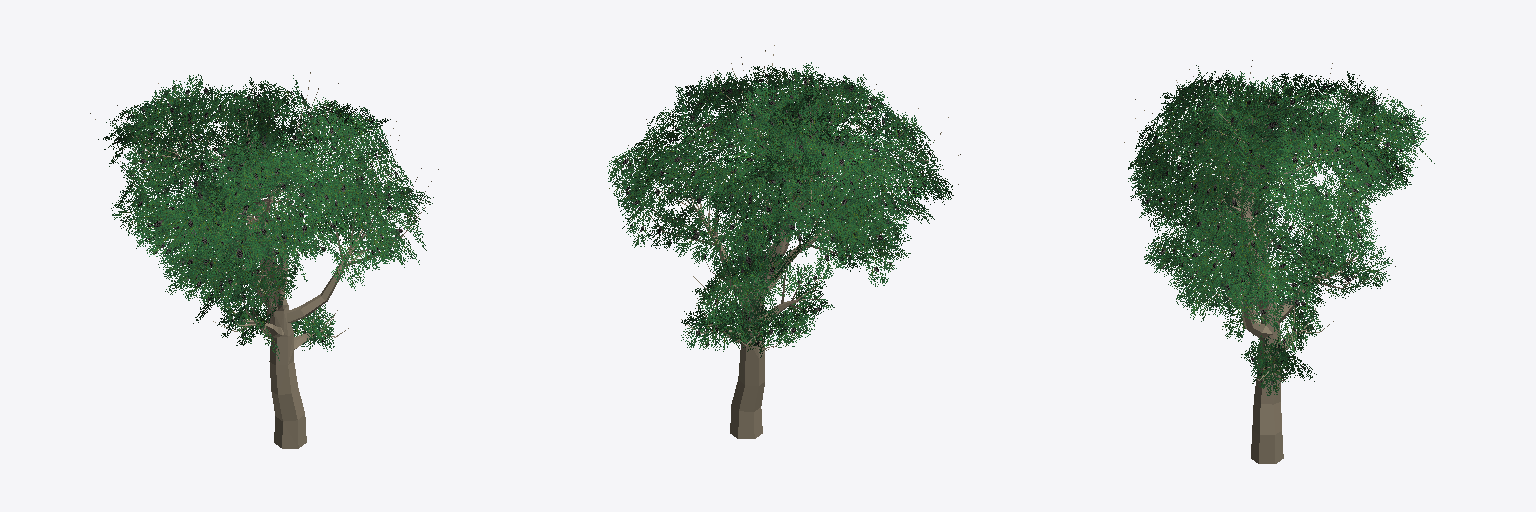
The picture shows the model from 3 angles: view 1: azimuth 30°, elevation 25°; view 2: azimuth 150°, elevation 25°; view 3: azimuth 270°, elevation 25°; orthographic projection.
Visible parts, largest first — view 1: Conifer_1_Branches, Conifer_1_Trunk; view 2: Conifer_1_Branches, Conifer_1_Trunk; view 3: Conifer_1_Branches, Conifer_1_Trunk.
Boxes of the visible parts, box(x1,y1,x2,y2) form: Conifer_1_Branches: box(98, 74, 433, 360); Conifer_1_Trunk: box(90, 72, 438, 448); Conifer_1_Branches: box(607, 62, 953, 357); Conifer_1_Trunk: box(628, 45, 960, 438); Conifer_1_Branches: box(1128, 65, 1434, 395); Conifer_1_Trunk: box(1124, 60, 1421, 463).
Size of the model in its own units: 588 by 633 by 498.
Materials: 4 (2 with a texture image).